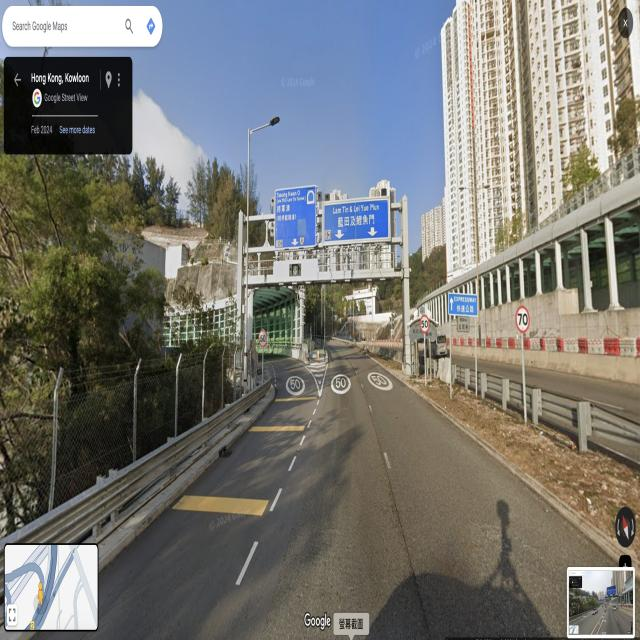Direction-Sign: (276, 190, 317, 248), (324, 203, 388, 239), (448, 292, 478, 317)
Order-Sign: (516, 307, 530, 330), (420, 314, 429, 332), (458, 318, 469, 332), (259, 329, 267, 348)
